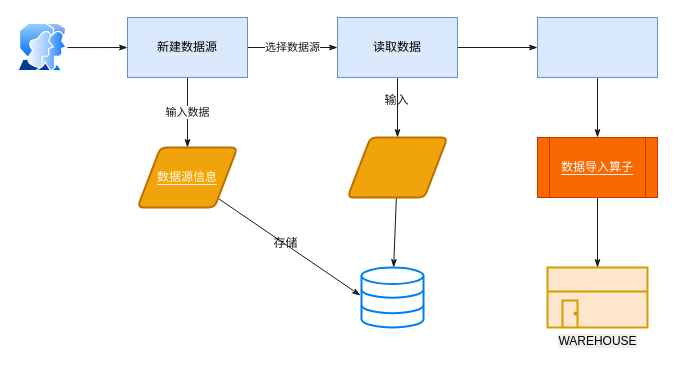
Some shapes in this 675 by 366 pixel diagram are drawn without their labels. Each missing label, with the centre of its shape:
MySQL: pixel 392 297
处理数据: pixel 597 47
表 名 数据预览 行列总数 数据大小: pixel 397 167
